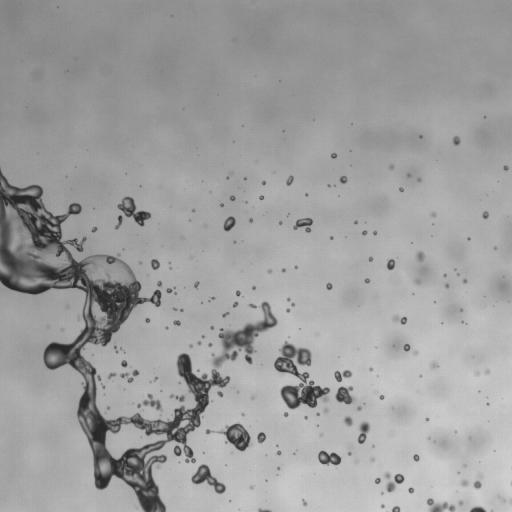droplet: (274, 341, 330, 409), (217, 422, 252, 451), (191, 465, 225, 493), (137, 393, 162, 411), (384, 472, 404, 492), (318, 450, 341, 466), (335, 386, 355, 404), (293, 218, 312, 232), (120, 369, 139, 382), (334, 370, 351, 382), (223, 216, 235, 231), (392, 315, 406, 324), (343, 416, 353, 426), (257, 432, 266, 443), (150, 259, 159, 269), (386, 259, 395, 269), (416, 251, 424, 261), (430, 361, 438, 369), (453, 136, 460, 145), (286, 176, 293, 185), (339, 176, 347, 183), (403, 344, 410, 351), (461, 479, 468, 486), (391, 506, 400, 511), (482, 211, 488, 218), (326, 283, 332, 290), (121, 360, 127, 367), (108, 372, 115, 378), (413, 454, 419, 461), (229, 195, 235, 201), (194, 281, 199, 288), (173, 320, 180, 325), (302, 499, 307, 506), (389, 164, 394, 170), (233, 301, 238, 307), (222, 312, 228, 317), (484, 369, 489, 375), (474, 371, 480, 376), (217, 391, 223, 396), (375, 477, 380, 483), (408, 487, 413, 493), (331, 153, 336, 158), (503, 165, 508, 170), (431, 212, 436, 217), (362, 230, 367, 235), (364, 278, 369, 283), (462, 278, 467, 283), (236, 290, 241, 295), (413, 350, 418, 355), (276, 450, 281, 455), (399, 187, 404, 191), (92, 227, 96, 232), (267, 269, 272, 273), (415, 279, 419, 284), (157, 281, 161, 286), (445, 283, 449, 288), (145, 318, 150, 322), (197, 340, 201, 345), (324, 407, 328, 412), (284, 412, 288, 417), (249, 485, 254, 489), (458, 501, 463, 505), (259, 195, 263, 199), (373, 230, 377, 234), (281, 268, 285, 272), (286, 308, 290, 312), (208, 342, 212, 346), (379, 395, 383, 399), (357, 406, 361, 410), (417, 178, 421, 181), (220, 203, 223, 207), (249, 218, 252, 222), (279, 221, 282, 225), (369, 257, 372, 261), (210, 297, 214, 300), (286, 298, 290, 301), (251, 395, 254, 399), (347, 452, 351, 455), (381, 504, 384, 508), (407, 174, 410, 177), (262, 181, 265, 184), (252, 286, 255, 289), (291, 303, 294, 306), (210, 326, 213, 329), (201, 335, 204, 338), (189, 344, 192, 347), (319, 433, 322, 436), (371, 458, 374, 461), (102, 384, 104, 388), (354, 221, 357, 223), (330, 236, 332, 239), (494, 246, 496, 249), (294, 266, 297, 268), (443, 274, 446, 276), (173, 308, 176, 310), (369, 368, 372, 370), (192, 209, 194, 211), (139, 262, 141, 264), (460, 309, 462, 311), (107, 406, 109, 408), (426, 418, 428, 420), (349, 447, 351, 449)
ligament: (0, 170, 277, 511), (117, 196, 150, 226), (426, 498, 455, 511), (357, 421, 370, 443), (473, 474, 482, 489), (169, 394, 185, 402), (469, 505, 486, 511), (115, 215, 122, 229), (166, 288, 176, 294), (205, 429, 215, 434), (258, 508, 271, 511), (113, 346, 118, 352), (151, 377, 157, 382), (509, 498, 511, 503), (510, 481, 511, 484), (490, 510, 493, 511)
